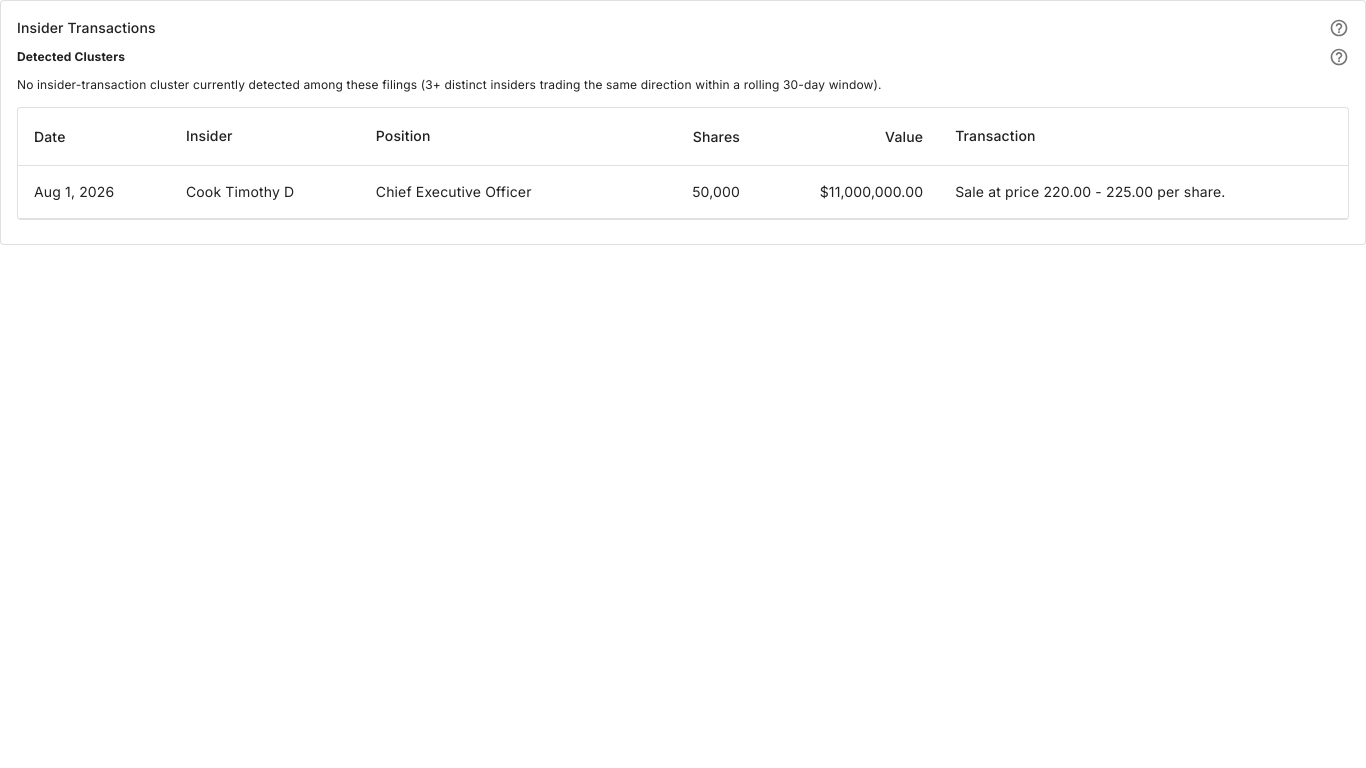
Test: InsiderTransactionsPanel › notes a single insider filing falls short of the cluster threshold
This screenshot has width=1366, height=768.
Click the button named "Insider Transactions help": (1339, 28) [1329, 18, 1349, 38]
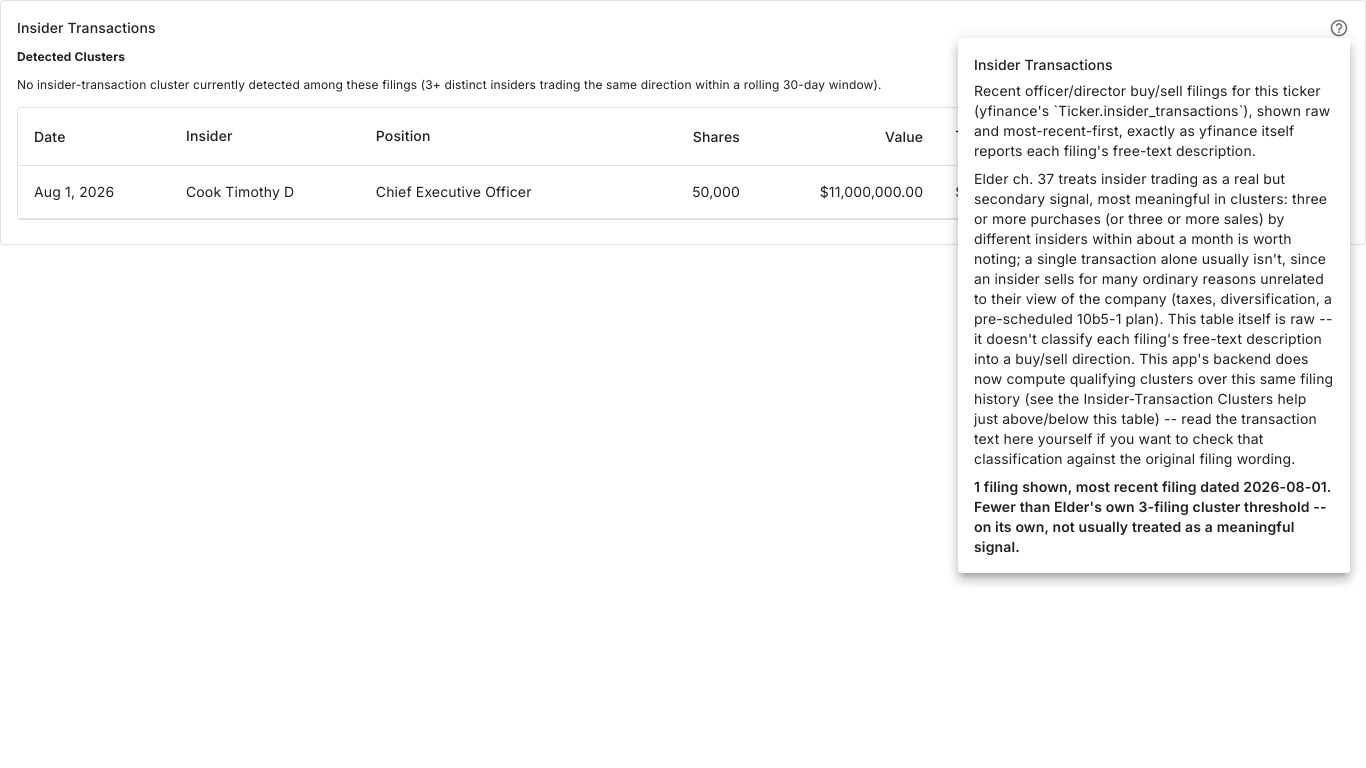
Now the text "on its own, not usually treated as a meaningful signal" is shown, box [974, 478, 1331, 555]
